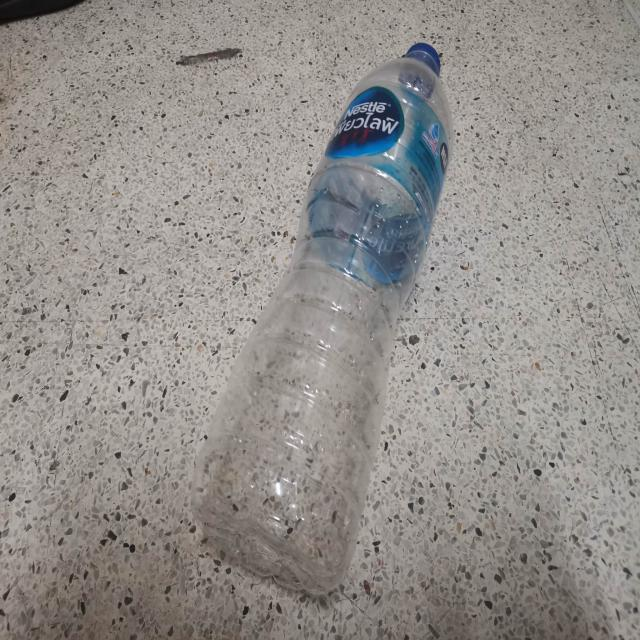plastic_bottle: (191, 42, 452, 595)
